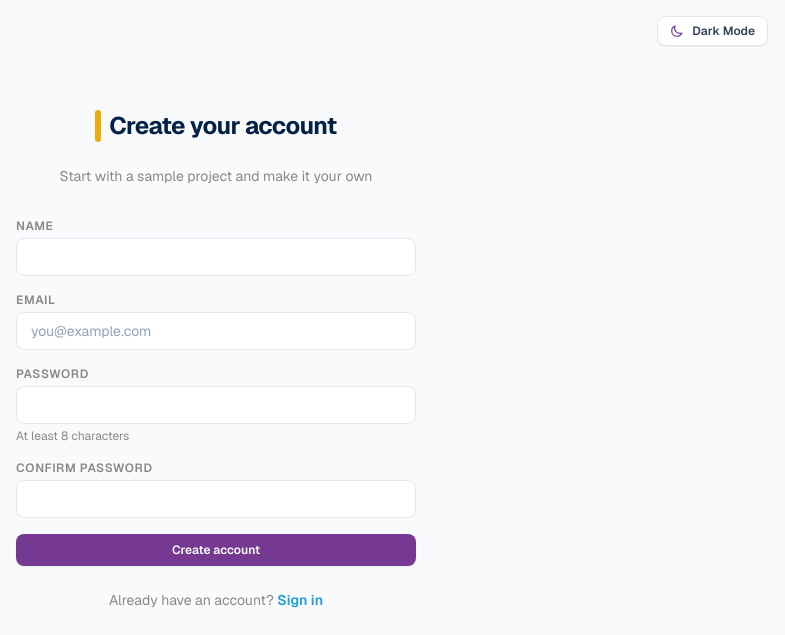
Test: RegisterForm › flags mismatched passwords
Type "Ada" into the field labelled "Name" at point(216, 257), box [16,238,416,276]
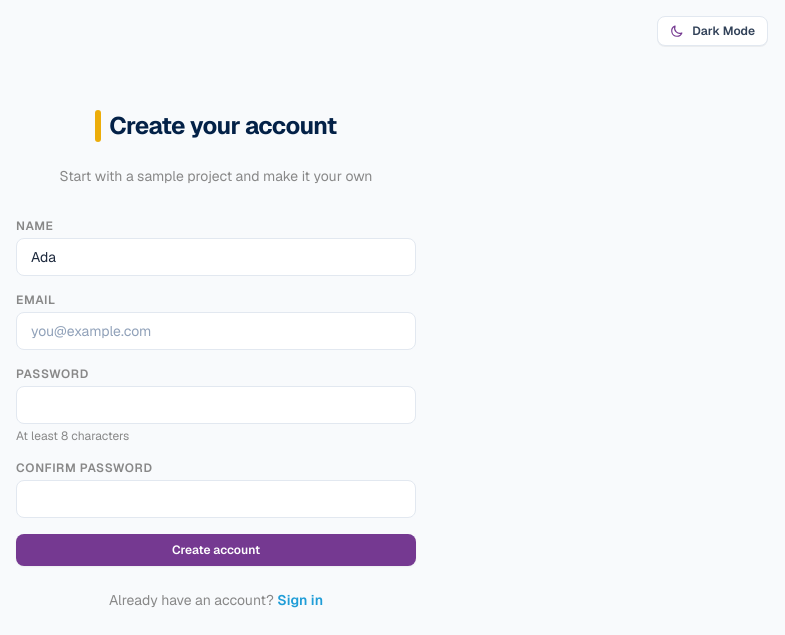
Type "ada@example.com" into the field labelled "Email" at point(216, 331), box [16,312,416,350]
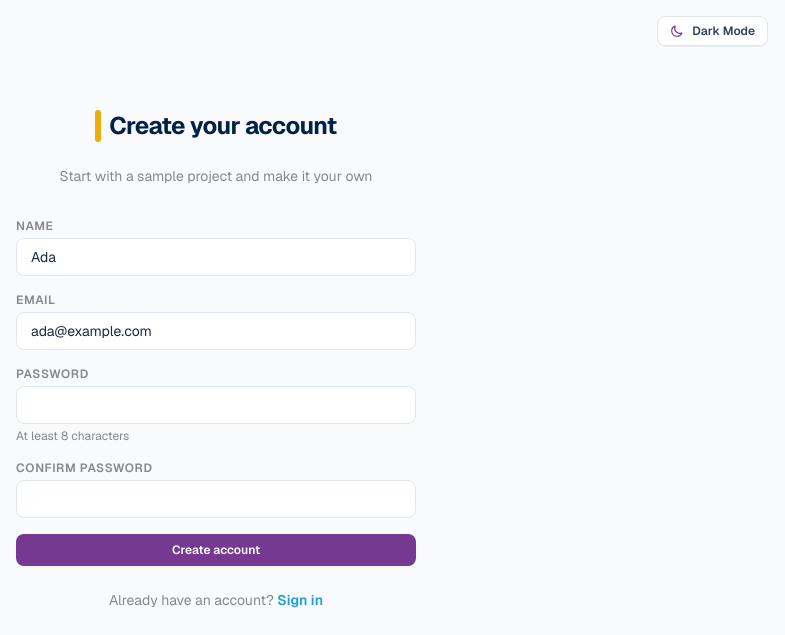
Type "analytical1" into the password field labelled "Password" at point(216, 405), box [16,386,416,424]
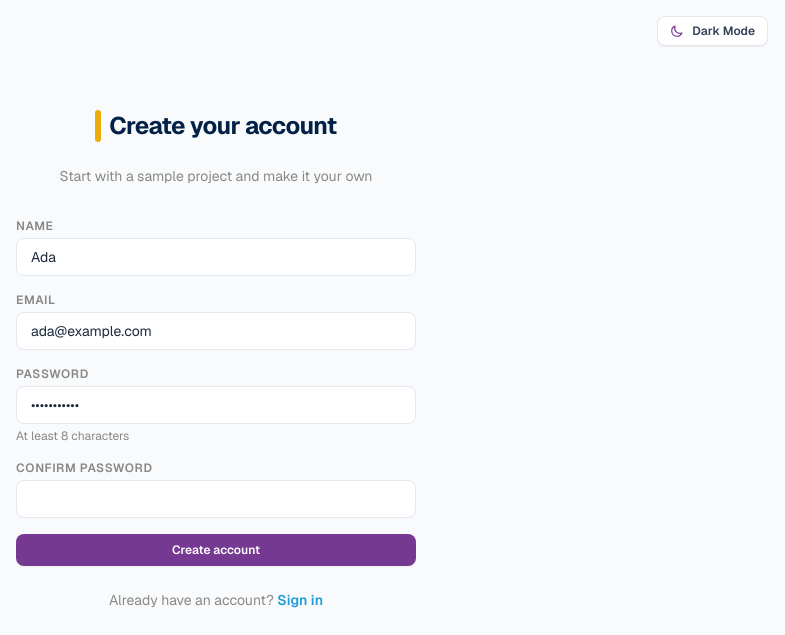
Type "different1" into the password field labelled "Confirm password" at point(216, 499), box [16,480,416,518]
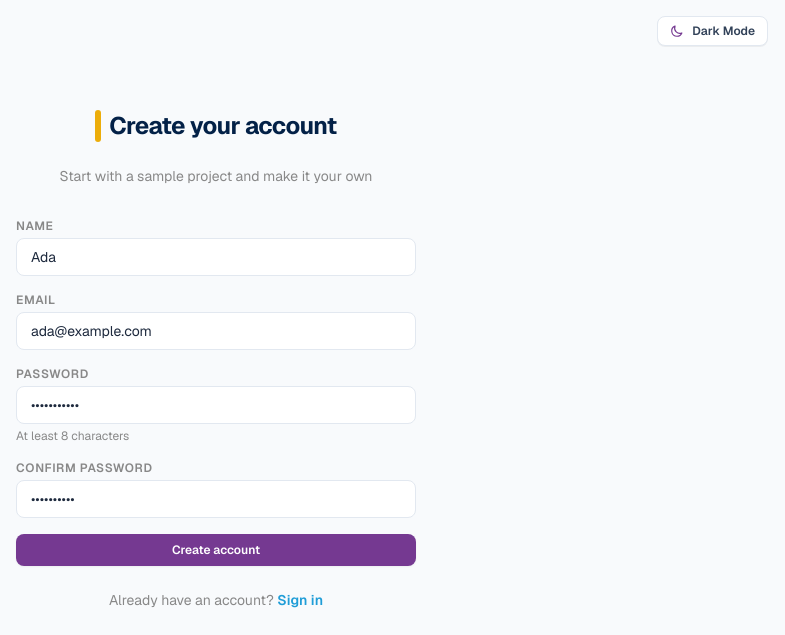
Click the button "Create account" at point(216, 550), box [16,534,416,566]
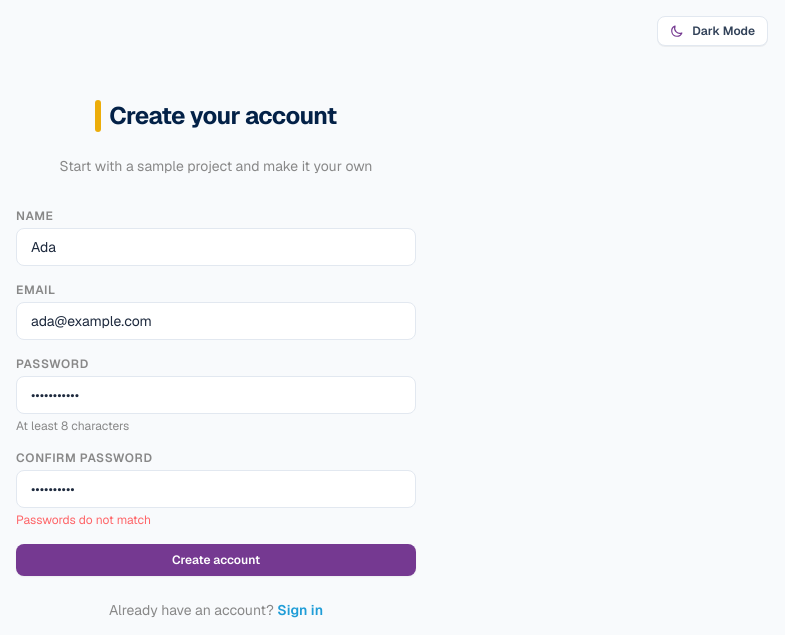
Result: the text "Passwords do not match" is shown at [16,512,151,528]
